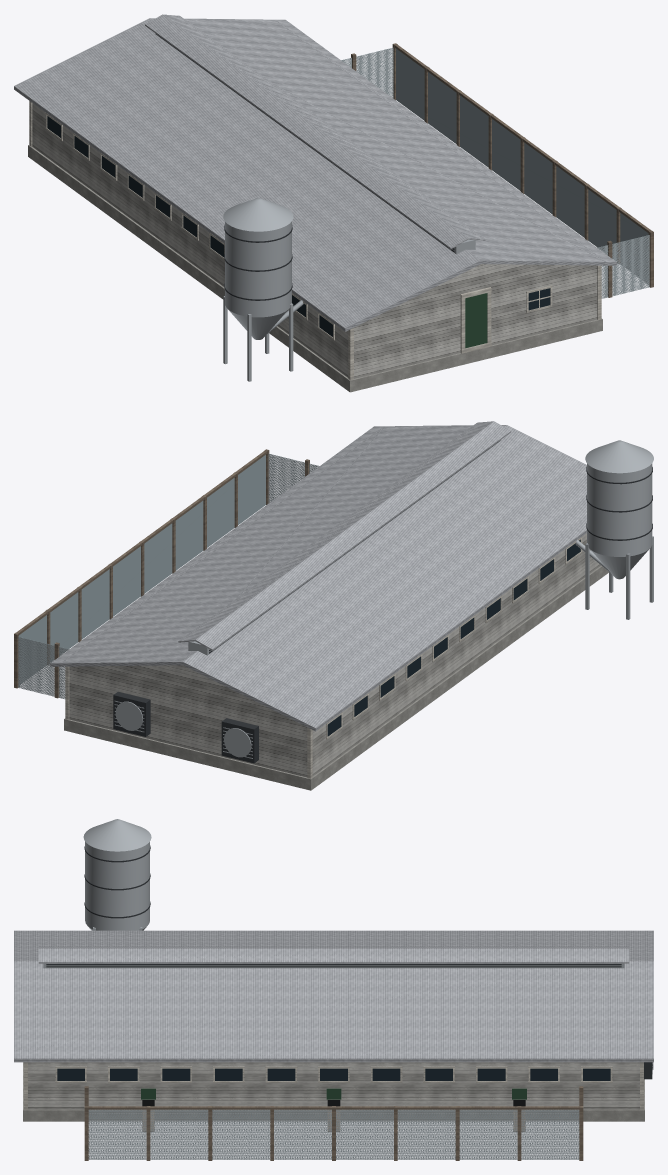
Rendered from poultry-house.glb.
3 views of the same model, one above another, from view 1: azimuth 30°, elevation 25°; view 2: azimuth 150°, elevation 25°; view 3: azimuth 270°, elevation 25° (orthographic). The views are drawn at different scales.
Visible parts, largest first — view 1: PoultryHouse; view 2: PoultryHouse; view 3: PoultryHouse.
Boxes of the visible parts, box(x1,y1,x2,y2) form: PoultryHouse: box(14, 14, 653, 392); PoultryHouse: box(14, 421, 653, 790); PoultryHouse: box(14, 819, 653, 1160).
Size of the model in its own units: 14.76 by 5.78 by 20.7.
Materials: 11 (6 with a texture image).
